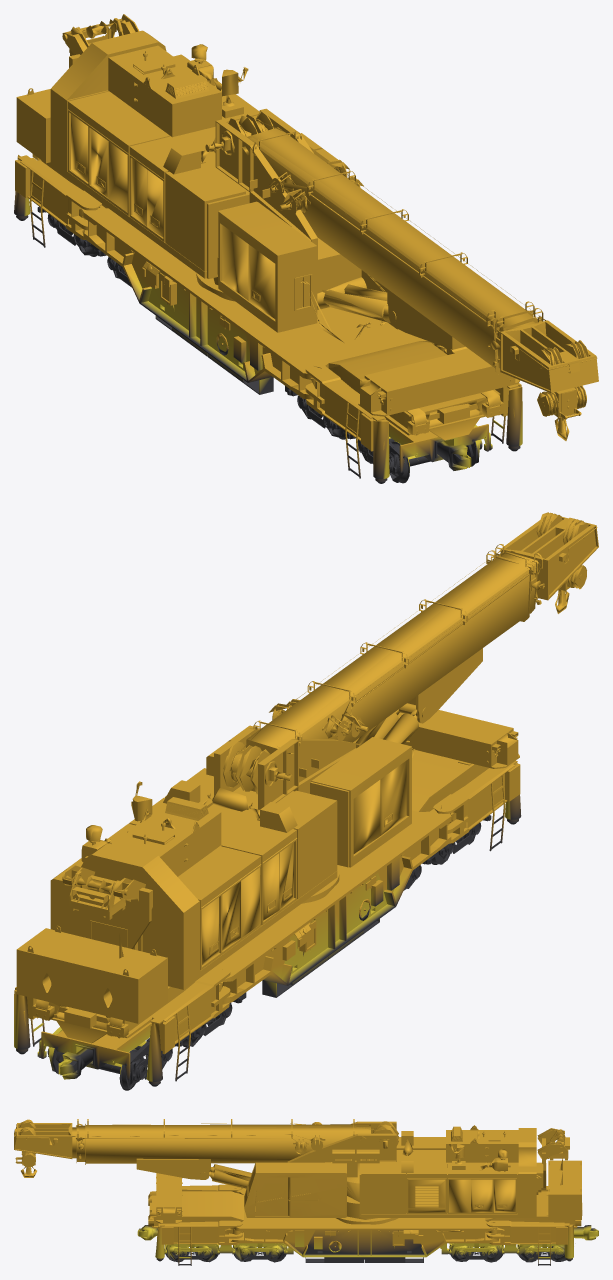
The model's file is sar.glb.
3 views of the same model, one above another, from view 1: azimuth 30°, elevation 25°; view 2: azimuth 150°, elevation 25°; view 3: azimuth 270°, elevation 25° (orthographic). The views are drawn at different scales.
Parts seen in each view (by area): view 1: Object_10; view 2: Object_10; view 3: Object_10.
Part boxes in pixels (box(x1,y1,x2,y2)): Object_10: box(14, 14, 598, 483); Object_10: box(14, 512, 598, 1090); Object_10: box(14, 1119, 598, 1265).
Size of the model in its own units: 3.15 by 4.23 by 17.49.
